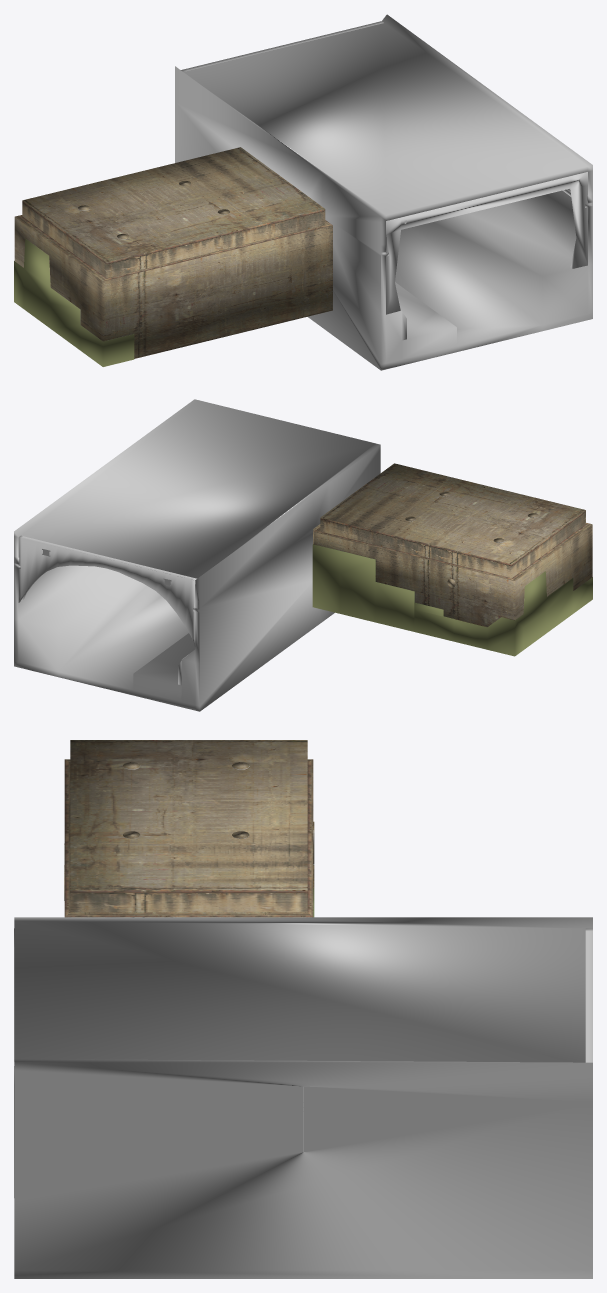
Rendered from Sectione_Straight_WithRoom_lowpoly_more.fbx.
3 views of the same model, one above another, from view 1: azimuth 30°, elevation 25°; view 2: azimuth 150°, elevation 25°; view 3: azimuth 270°, elevation 25° (orthographic). The views are drawn at different scales.
Parts seen in each view (by area): view 1: SectionE_straight, roomA, machines, Arch; view 2: SectionE_straight, roomA, machines, Arch; view 3: SectionE_straight, roomA, Arch.
Boxes of the visible parts, x1,y1,x2,y2 form: SectionE_straight: (175,14,592,370); roomA: (14,147,332,358); machines: (14,238,134,366); Arch: (181,21,383,71); SectionE_straight: (14,399,380,711); roomA: (313,463,592,626); machines: (312,544,592,656); Arch: (18,535,196,646); SectionE_straight: (14,917,592,1278); roomA: (64,740,313,917); Arch: (585,928,592,1062).
Bounding box in the file's own units: 658 × 208 × 497.
